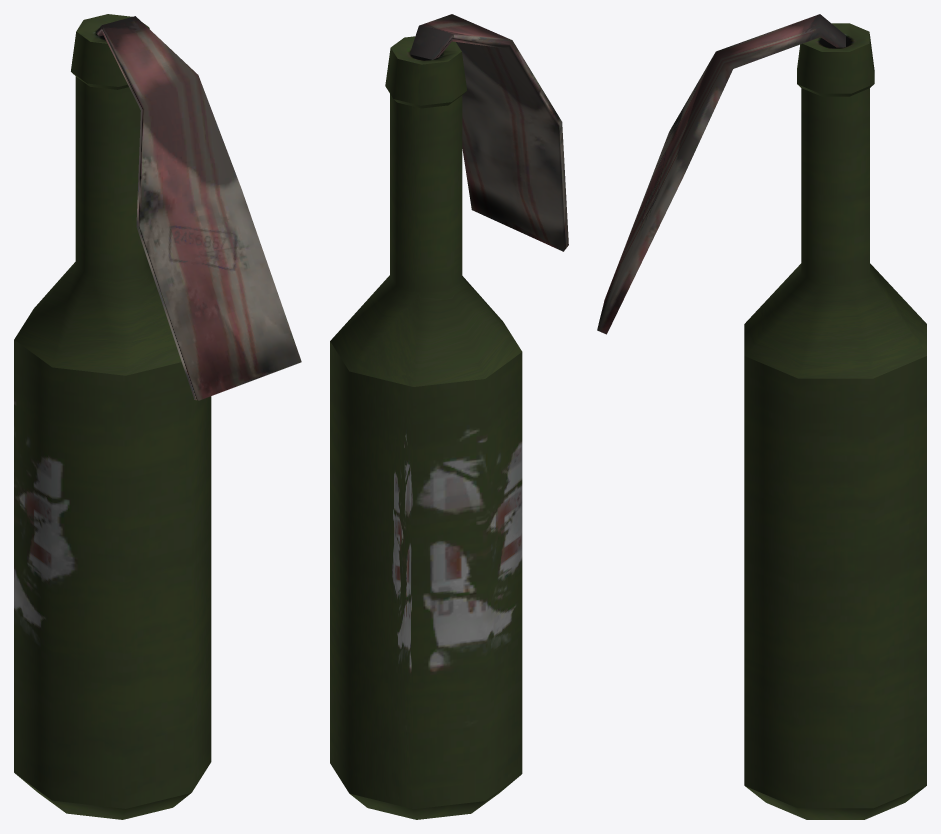
The model's file is molotov.glb.
3 views of the same model, side by side, from view 1: azimuth 30°, elevation 25°; view 2: azimuth 150°, elevation 25°; view 3: azimuth 270°, elevation 25° (orthographic). The views are drawn at different scales.
Parts seen in each view (by area): view 1: Object_2; view 2: Object_2; view 3: Object_2.
Boxes of the visible parts, x1,y1,x2,y2 form: Object_2: (14,14,301,819); Object_2: (330,14,568,819); Object_2: (597,14,926,819).
Size of the model in its own units: 0.091 by 0.4228 by 0.1646.
Materials: 1 (1 with a texture image).
